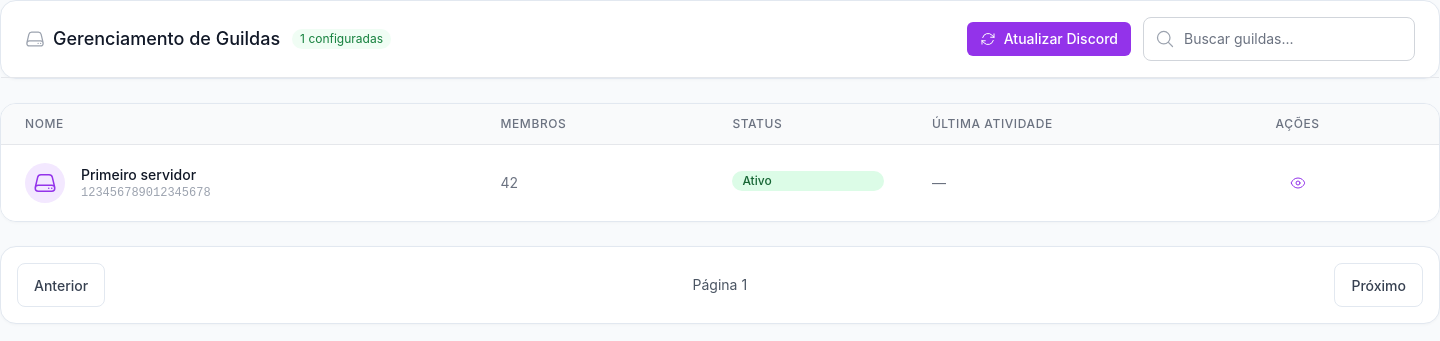
Test: GuildConfigTab › avança usando hasMore da API mesmo com menos de dez registros visíveis
Expected: the text "Primeiro servidor" is shown, [81,165,211,185]
Click the button "Próximo". click: (1379, 285)
box: [1334,263,1423,307]
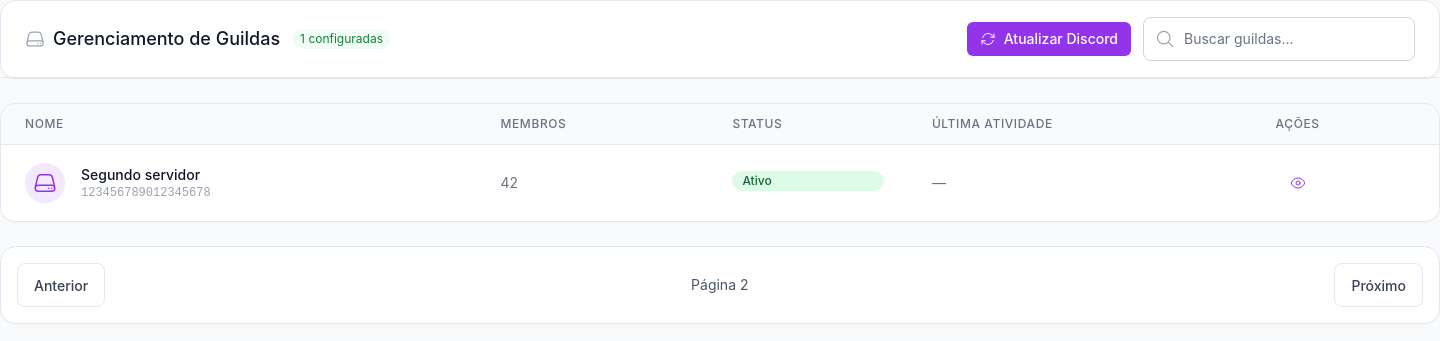
Result: the text "Segundo servidor" is shown at [81,165,211,185]
Result: the text "Página 2" is shown at [691,275,748,295]
